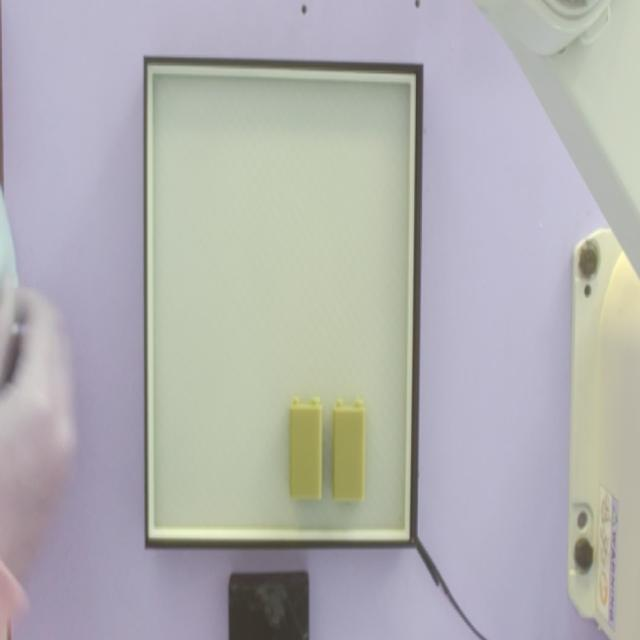bateria: (333, 400, 365, 499), (291, 399, 322, 498)
mesa: (144, 56, 424, 550)
